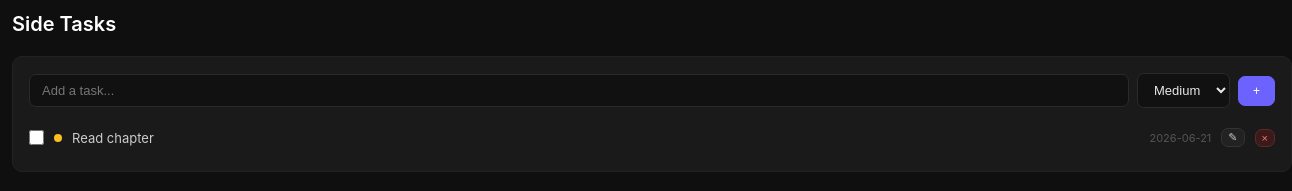
Tasks — Edit task text › saves edited task on blur
Click the button "✎". click: (1233, 138)
box: [1221, 128, 1244, 147]
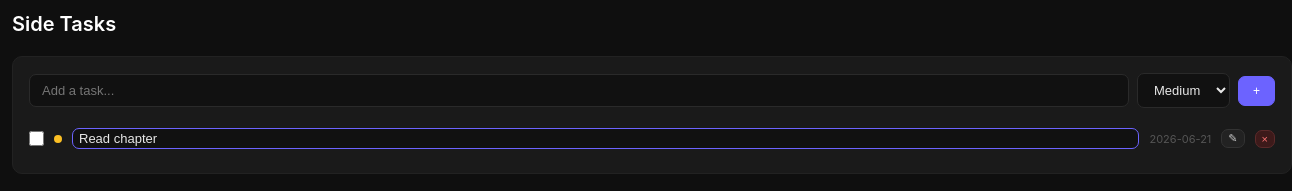
Replace the text in the field showing "Read chapter" with "Updated task". click: (606, 138)
box: [72, 128, 1140, 149]
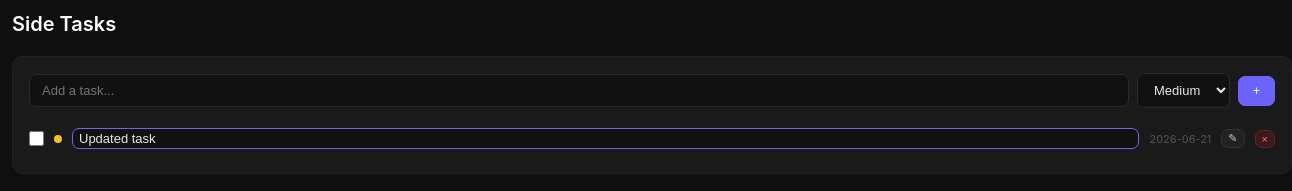
Leave the field showing "Read chapter", box [72, 128, 1140, 149]
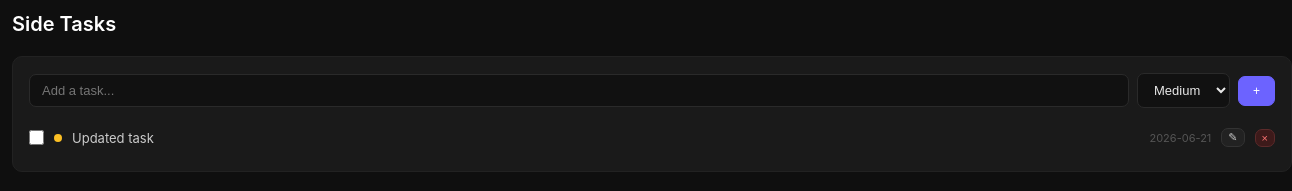
Check: the text "Updated task" is shown, box [72, 130, 154, 146]
